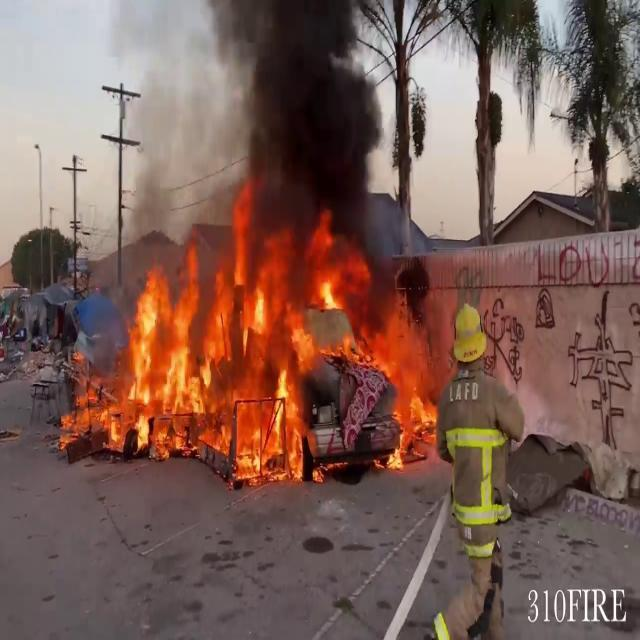Fire: (64, 208, 442, 478)
Smoke: (190, 0, 408, 226)
